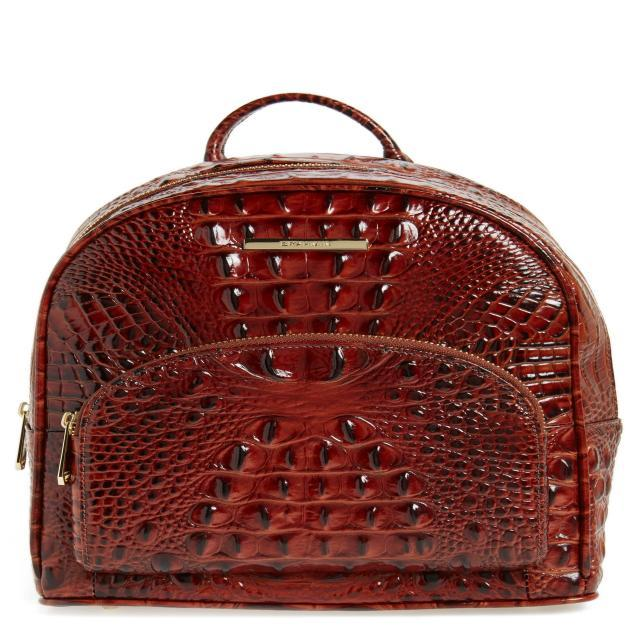Backpacks: (28, 151, 624, 611)
